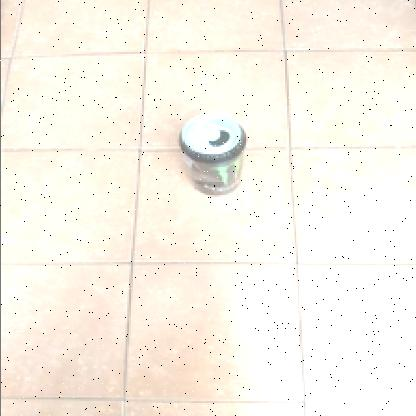Can: (175, 111, 247, 198)
